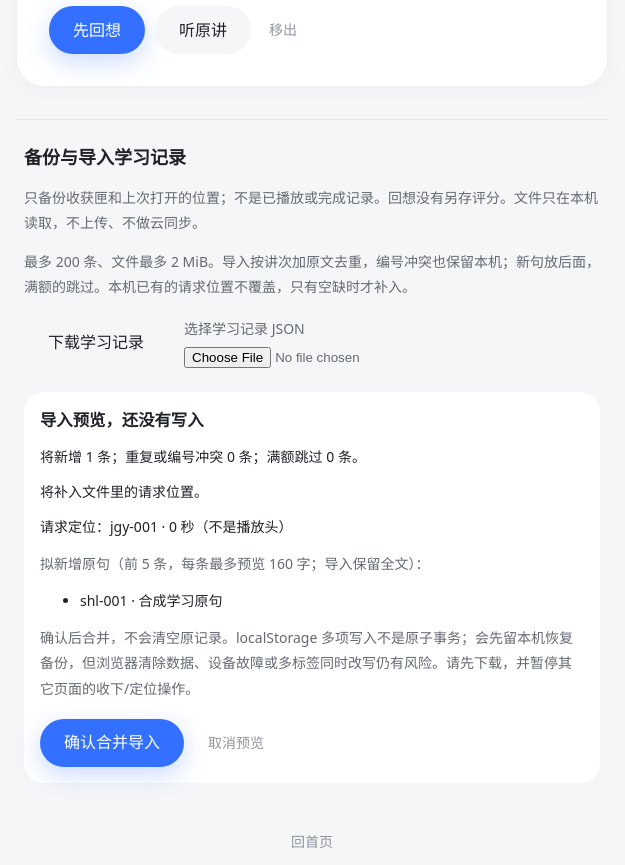
Test: file input previews without writing; explicit confirmation merges and refreshes the actual stash
The width and height of the screenshot is (625, 865).
Earlier steps of the test are not shown.
(page scrolled)
Expected: the text "只备份收获匣和上次打开的位置；不是已播放或完成记录。回想没有另存评分。文件只在本机读取，不上传、不做云同步。" is shown, [24,185,600,235]
What coordinates should you click on to do the following:
click the button "确认合并导入"
I would click on:
 (112, 743)
Its box is [40,719,184,767].
(page scrolled)
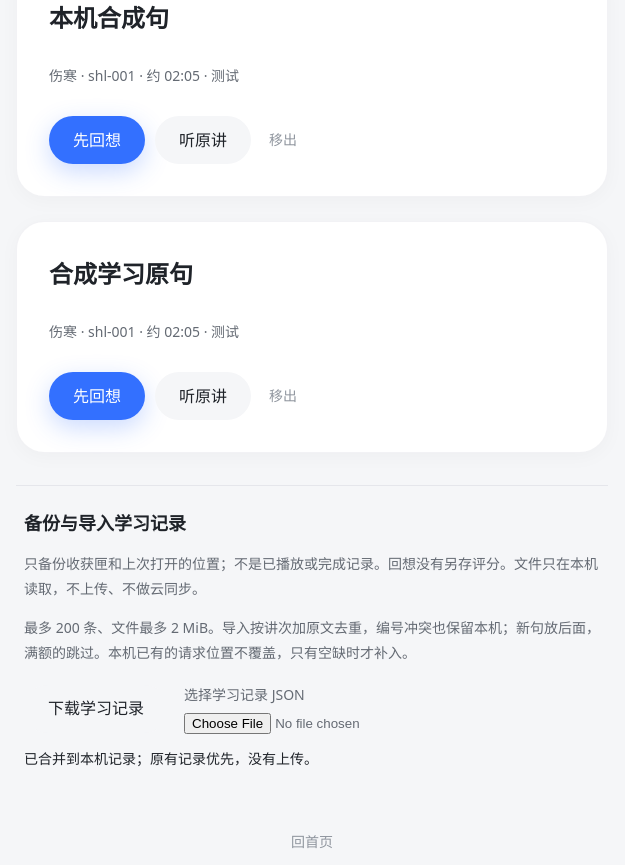
Expected: the text "合成学习原句" is shown, [49,257,193,290]
Expected: the button "确认合并导入" is gone
